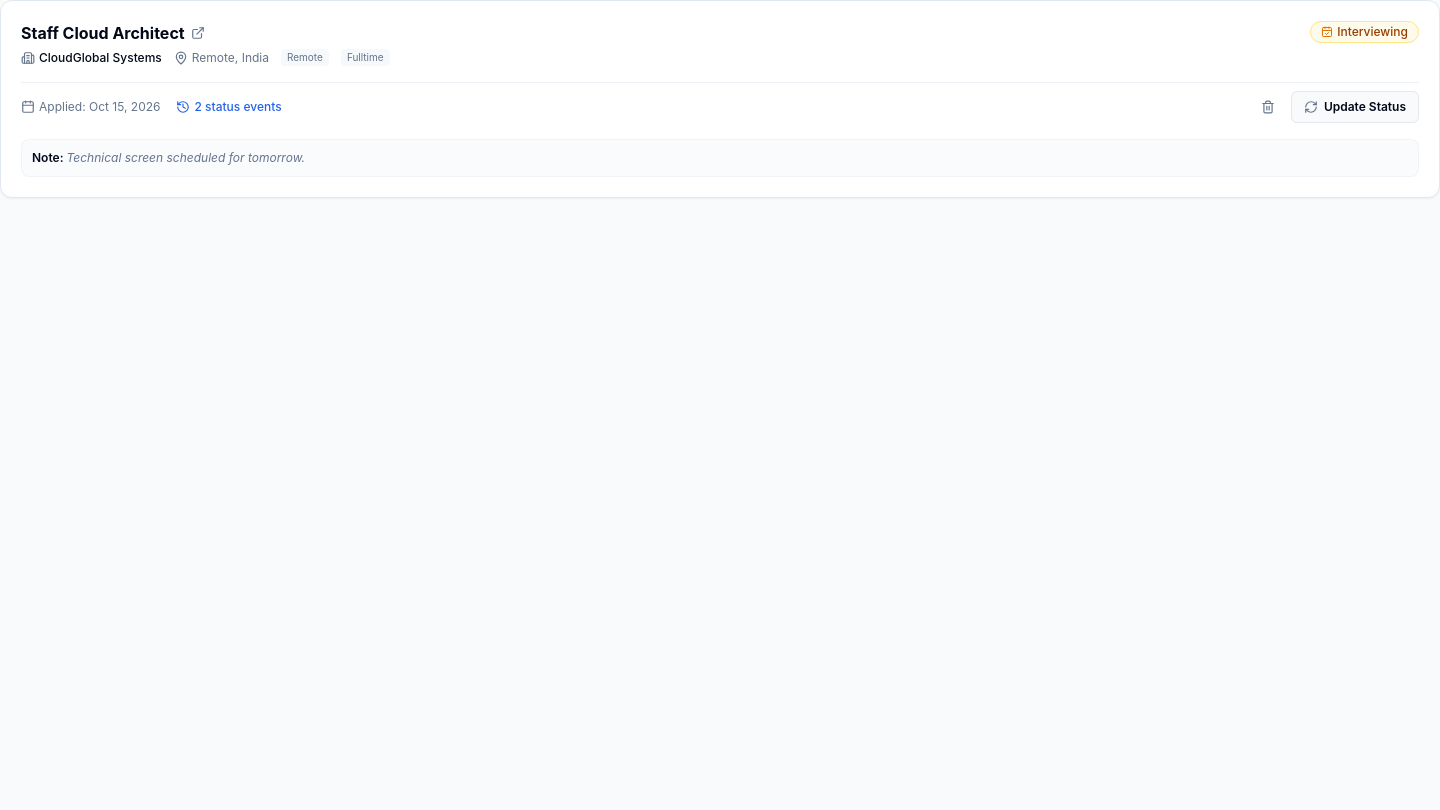
ApplicationCard Component › renders application details, status badge, dates, and opens modal
expect the text "Staff Cloud Architect" is shown: met, box [21, 21, 185, 45]
expect the text "CloudGlobal Systems" is shown: met, box [21, 50, 162, 66]
# Click 'Update Status' button
What coordinates should you click on to do the following:
click the button "Update Status"
I would click on:
 (1355, 107)
Its box is [1291, 91, 1419, 123].
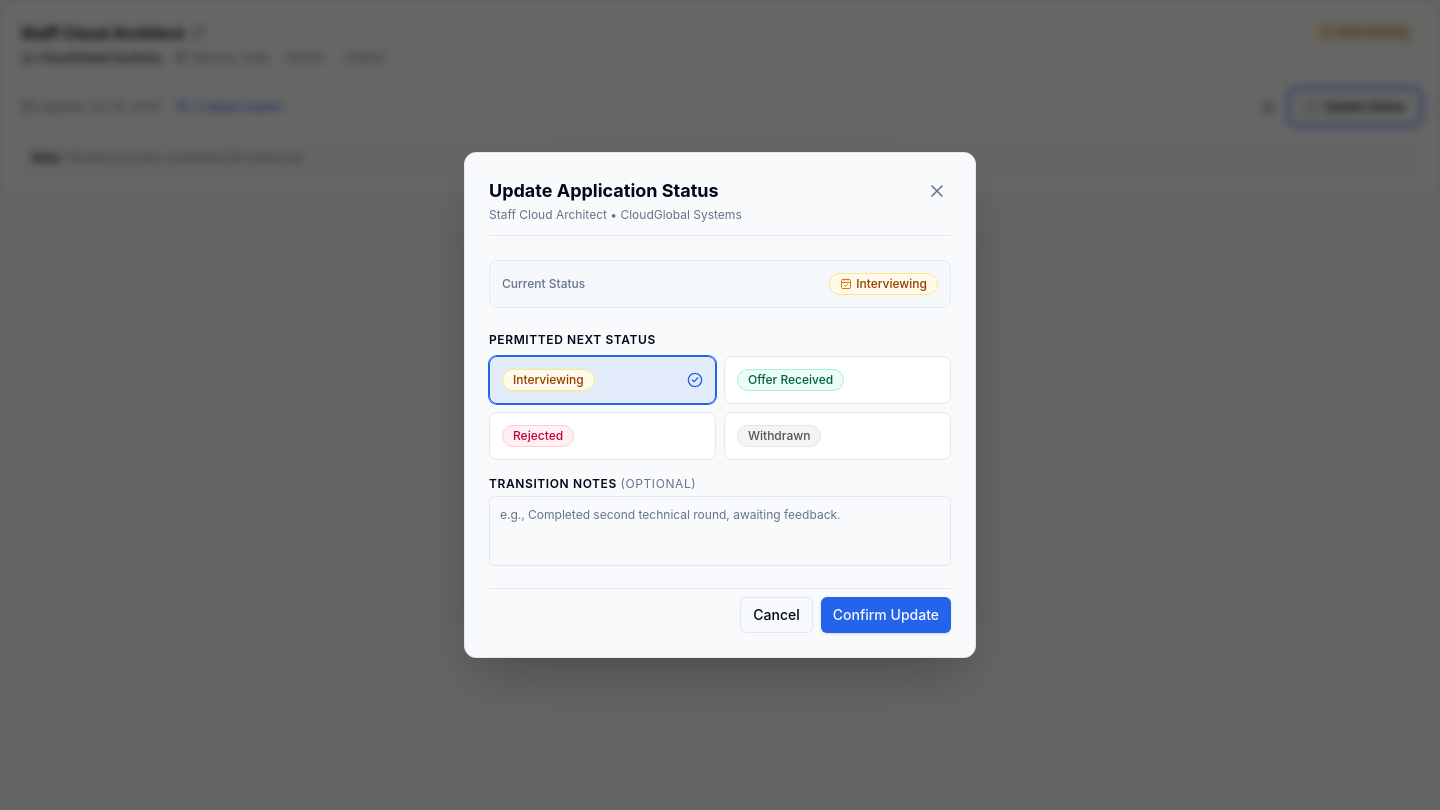
expect the heading "Update Application Status" is shown: met, box [489, 177, 742, 205]
